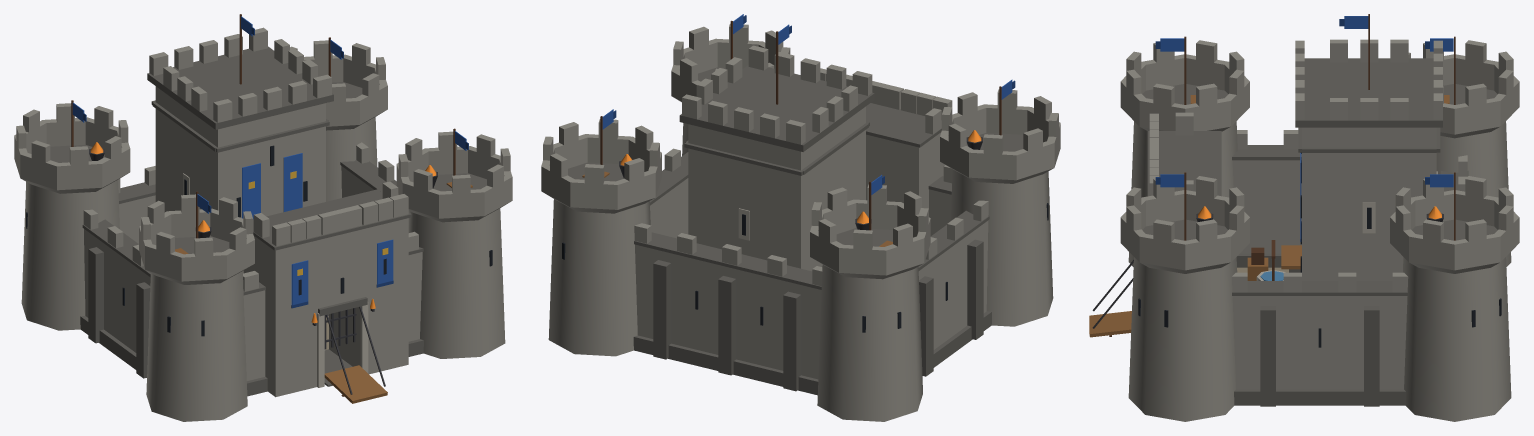
Rendered from castle.glb.
The picture shows the model from 3 angles, left to right: view 1: azimuth 30°, elevation 25°; view 2: azimuth 150°, elevation 25°; view 3: azimuth 270°, elevation 25°; orthographic projection. The views are drawn at different scales.
Visible parts, largest first — view 1: castle; view 2: castle; view 3: castle.
Part boxes in pixels (x1,y1,x2,y2): castle: [14, 14, 512, 421]; castle: [541, 14, 1060, 421]; castle: [1089, 14, 1519, 421].
Size of the model in its own units: 17.4 by 13.45 by 16.6.
Materials: 1 (1 with a texture image).
